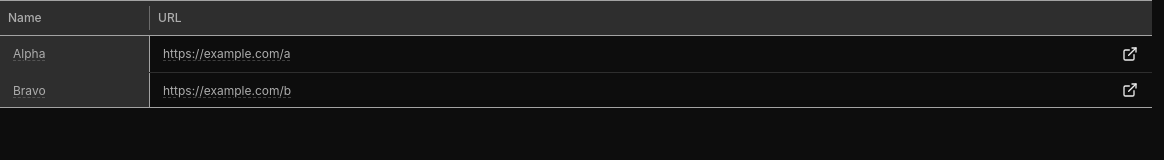
Test case: DataGrid focus after commit resort › keeps URL cells keyboard-navigable until enter starts editing
Later steps or results of the test are not shown.
Press the mouse on the 1st field at (75, 54), box [8,40,142,68]
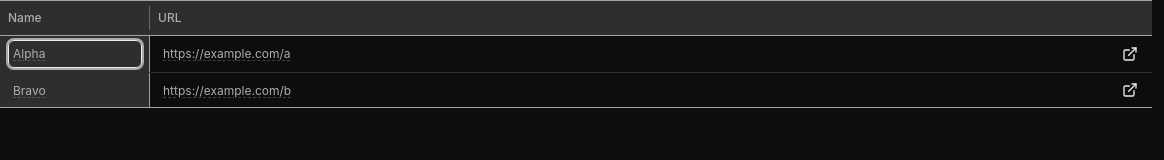
Press Tab in the 1st field, box [8,40,142,68]
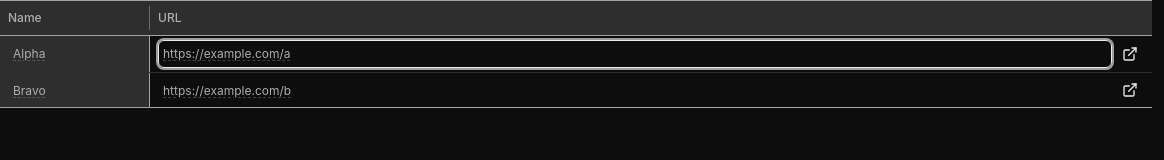
Press ArrowDown in the 2nd field, box [158,40,1112,68]
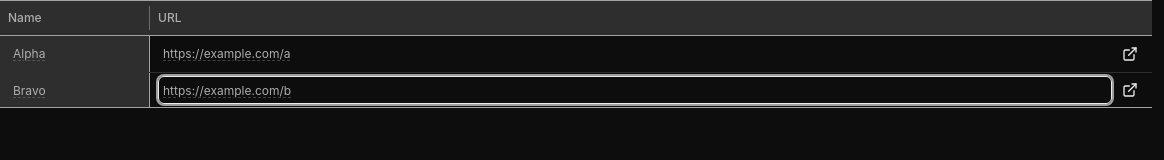
Press Enter in the 4th field, box [158,76,1112,104]
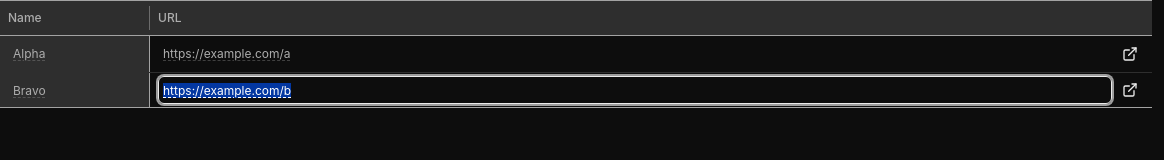
Check: the 4th field has attribute data-grid-editing="true", box [158,76,1112,104]
